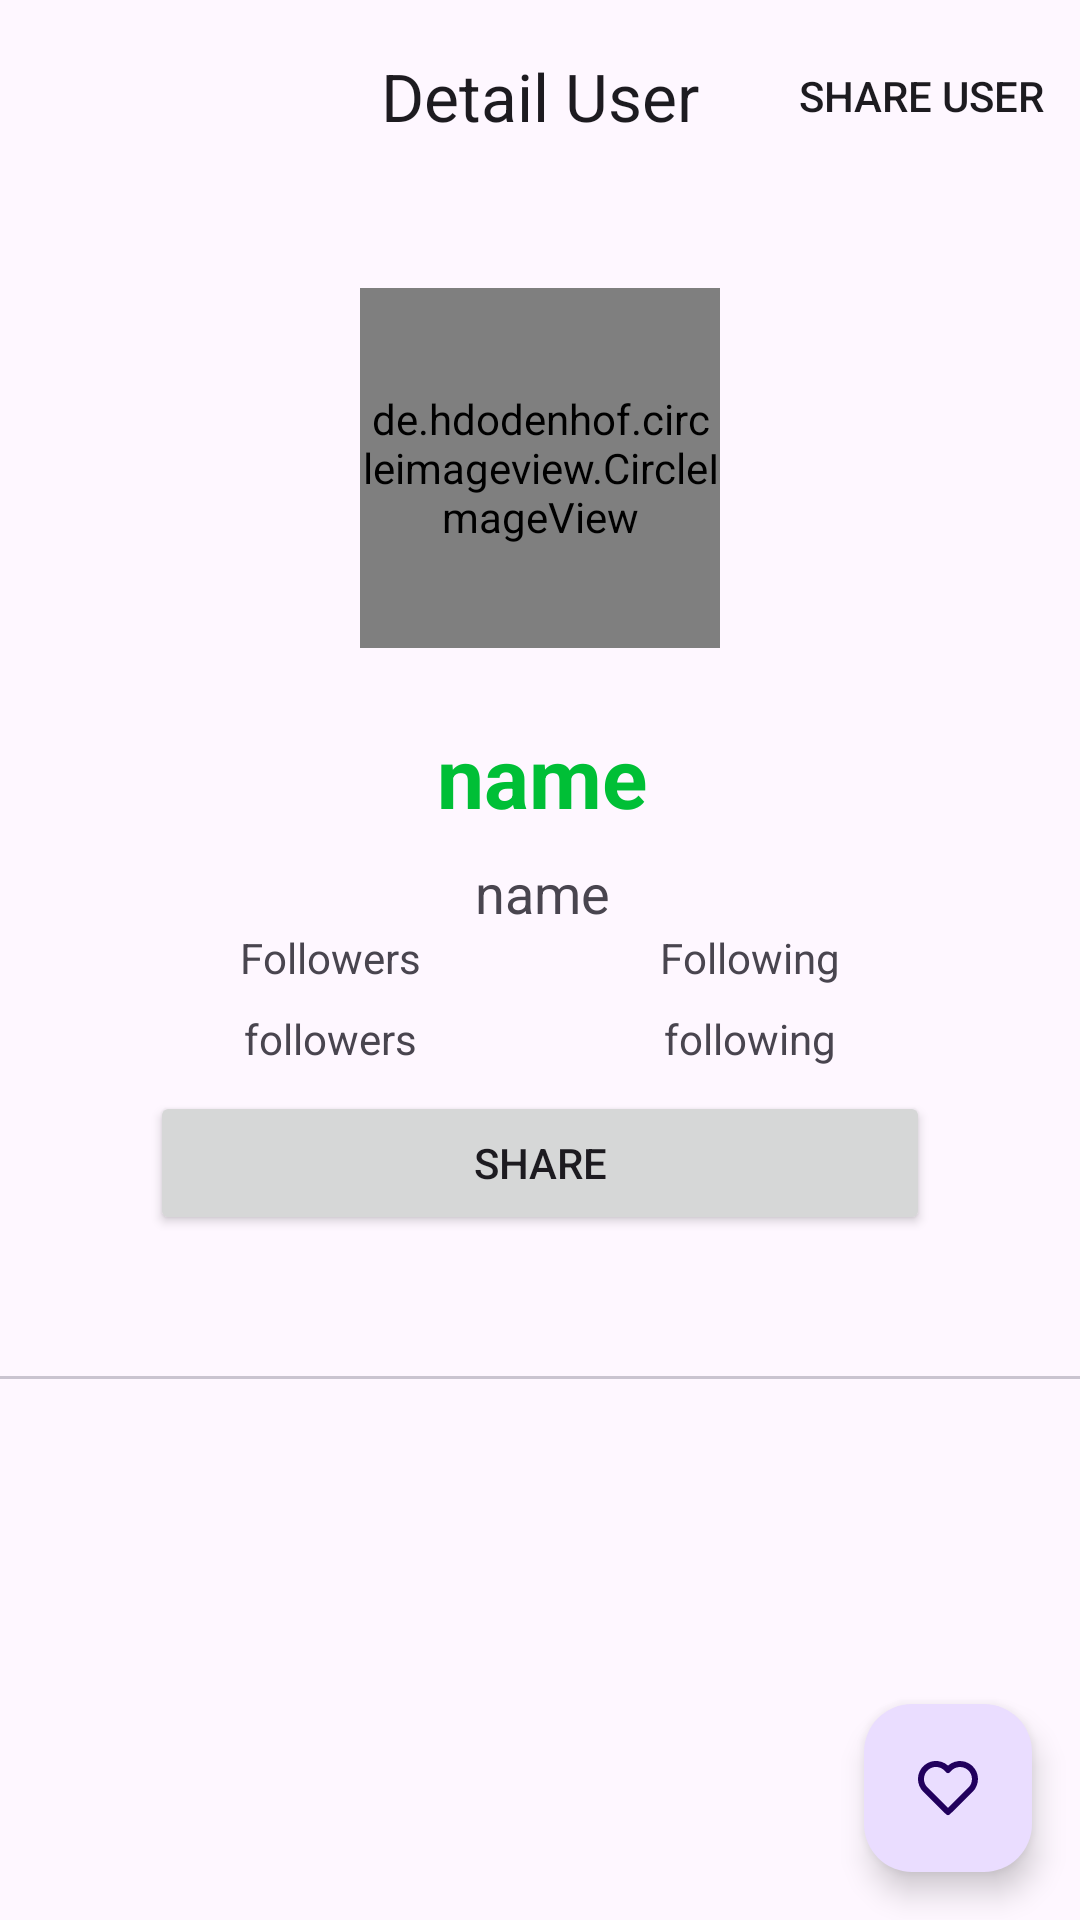

Named icons in this screenshot (1080*1920) and their centers, (x=x, y=y):
heart line: (x=948, y=1788)
